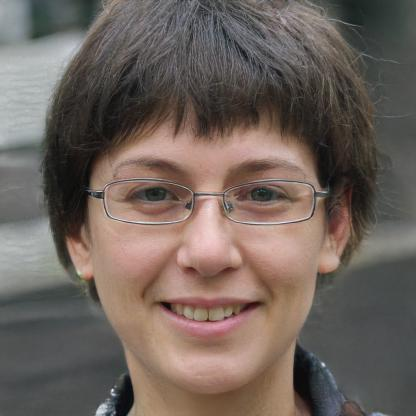glasses: (95, 172, 324, 233)
